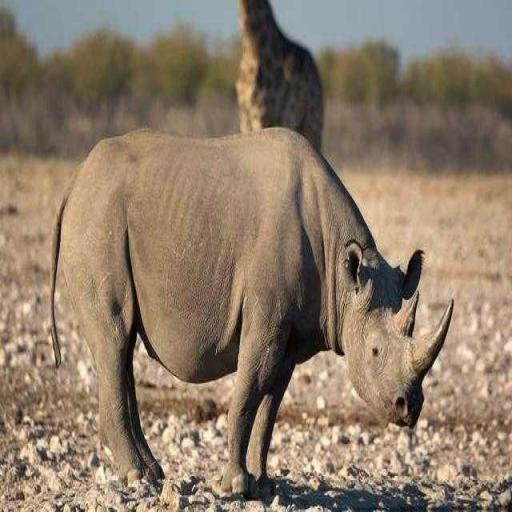Rhino: (48, 122, 454, 497)
